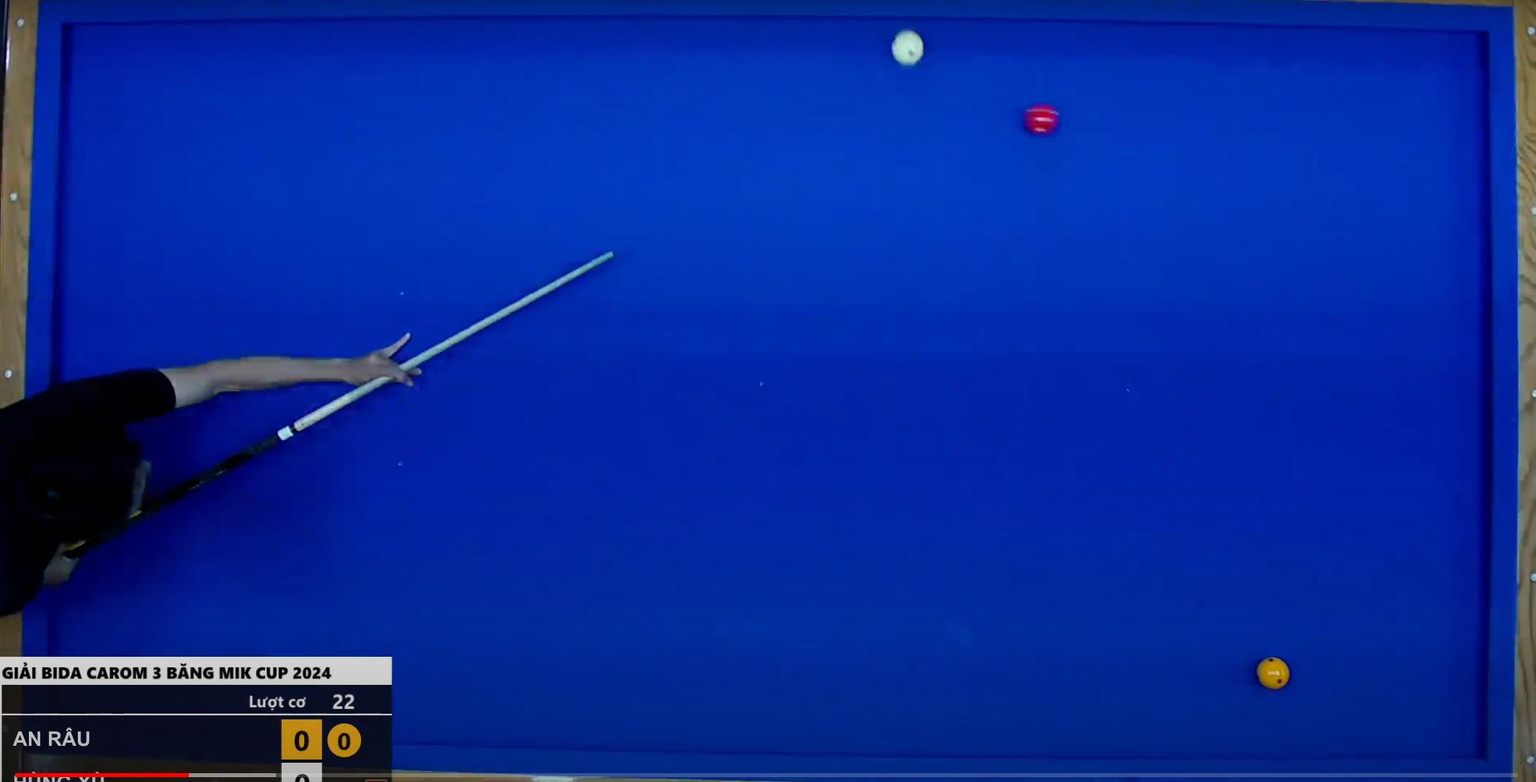red ball: (1020, 96, 1066, 146)
white ball: (884, 21, 934, 75)
yellow ball: (1248, 651, 1294, 702)
